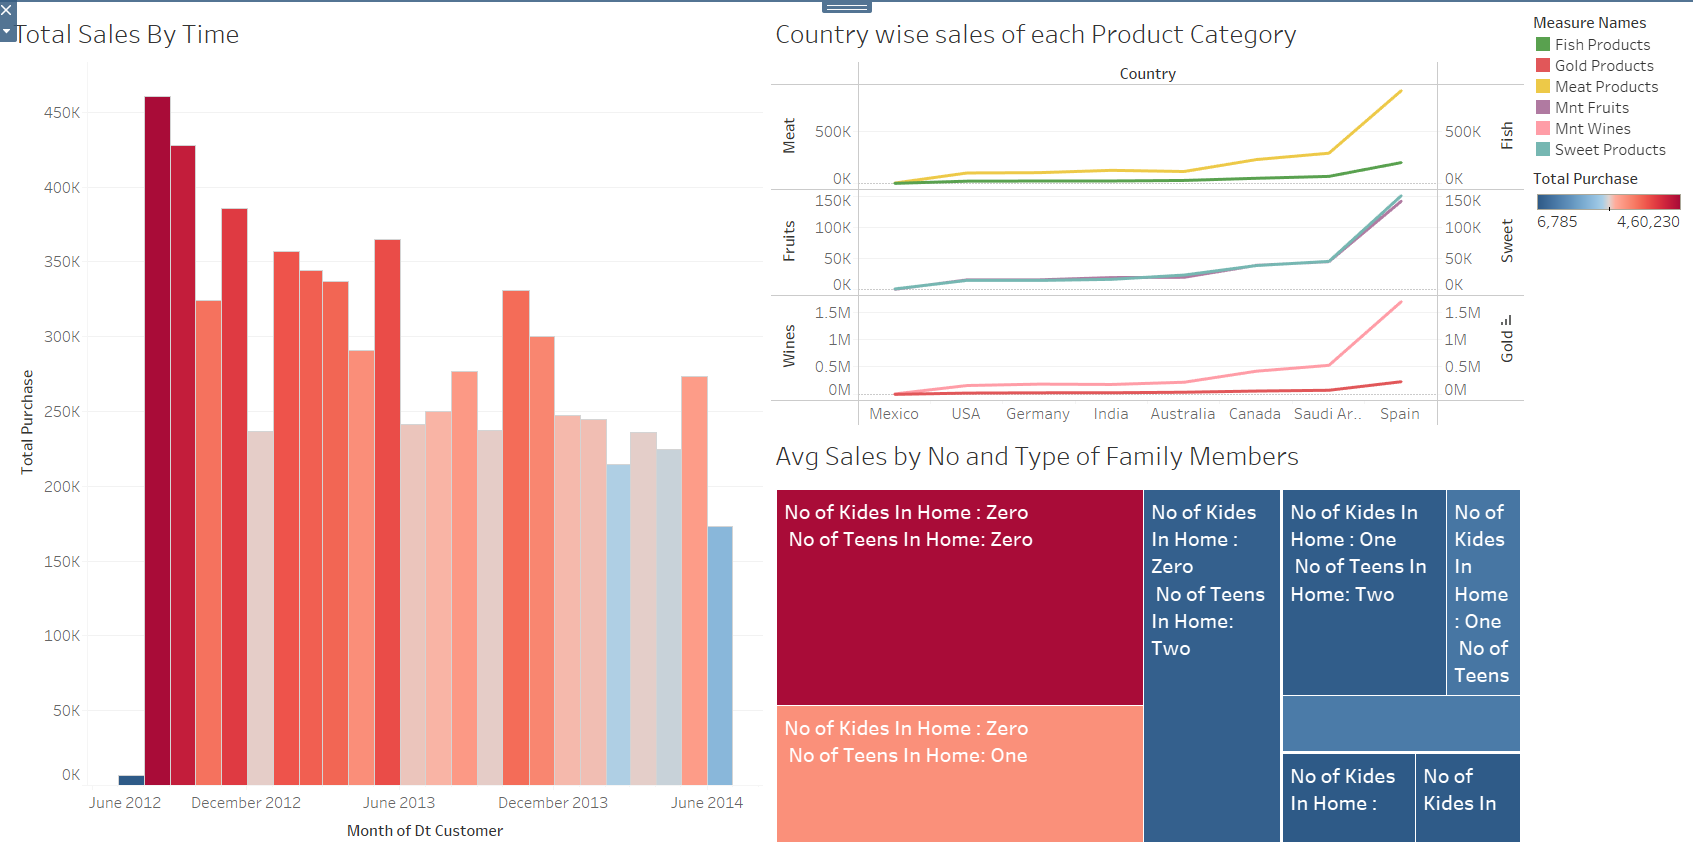

What the dashboard file says about the page in this screenshot:
{"tool":"tableau","page":{"name":"Sales DashBoard","canvas":[1000,1000],"units":"permille","ordinal":2},"visuals":[{"type":"worksheet","title":"Total Sales By Time ","mark":"Bar","rows":["Total Purchase"],"cols":["Dt_Customer"],"box":[5,9.5,445.4,981]},{"type":"worksheet","title":"Country wise sales of each Product Category","mark":"Line","rows":["MntMeatProducts","MntFishProducts","MntFruits","MntSweetProducts","MntWines","MntGoldProds"],"cols":["Country"],"box":[450.4,9.5,445.4,490.5]},{"type":"legend","title":"Country wise sales of each Product Category","param":"[federated.003a4g117bcdep19m6nk21j4v3hl].[:Measure Names]","box":[895.9,9.5,99.2,185.5]},{"type":"legend","title":"Total Sales By Time ","param":"[federated.003a4g117bcdep19m6nk21j4v3hl].[sum:Total Purchase:qk]","box":[895.9,195,99.2,86.8]},{"type":"worksheet","title":"Avg Sales by No and Type of Family Members","mark":"Automatic","box":[450.4,500,445.4,490.5]}]}

Visuals, with their boxes on the dashboard's canvas, which has no fixed pixel size, in thousandths of its width and height (x1, y1, x2, y2). These are canvas units, not pixel positions in the 1693x856 screenshot, which may show the page scaled, cropped or inside an application window:
"Total Sales By Time " worksheet (Bar marks): x1=5, y1=10, x2=450, y2=990
"Country wise sales of each Product Category" worksheet (Line marks): x1=450, y1=10, x2=896, y2=500
"Country wise sales of each Product Category" legend: x1=896, y1=10, x2=995, y2=195
"Total Sales By Time " legend: x1=896, y1=195, x2=995, y2=282
"Avg Sales by No and Type of Family Members" worksheet: x1=450, y1=500, x2=896, y2=990
